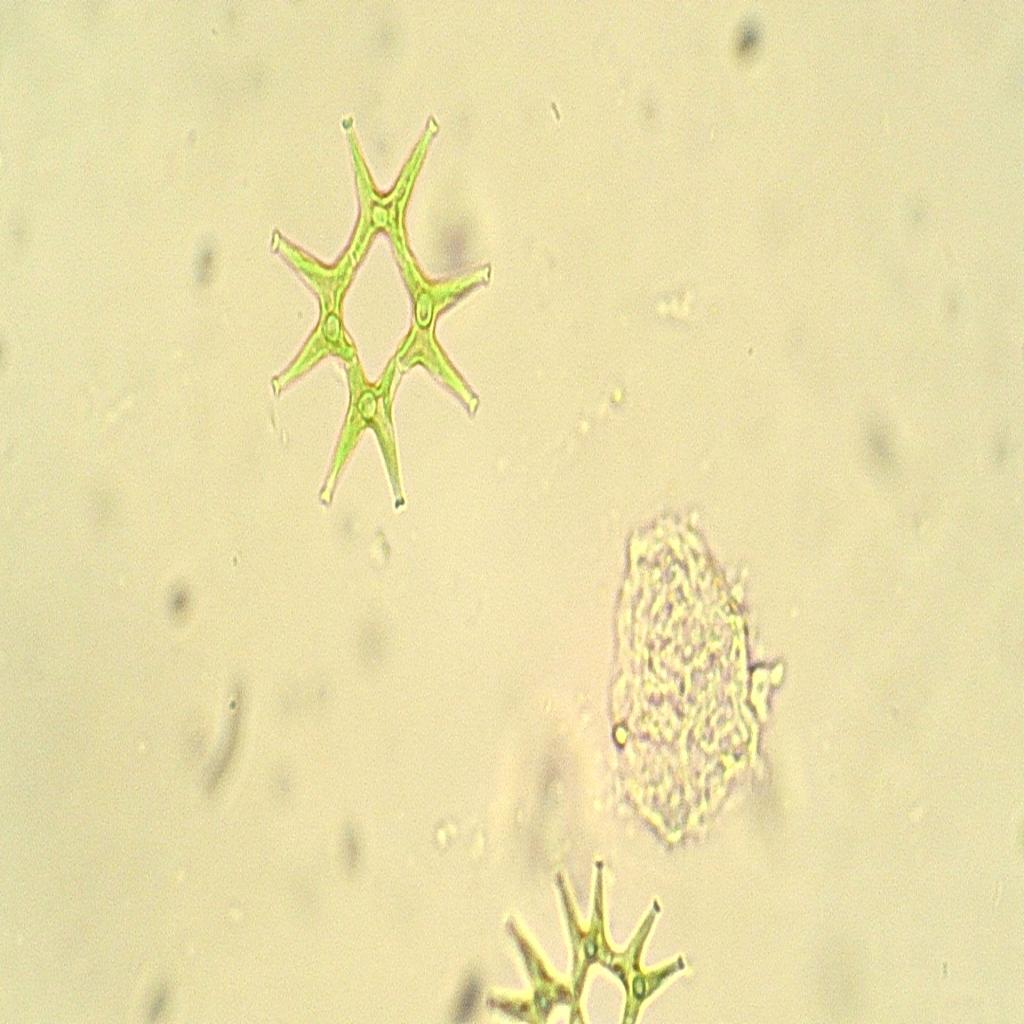Pediastrum_10: (256, 96, 502, 551)
